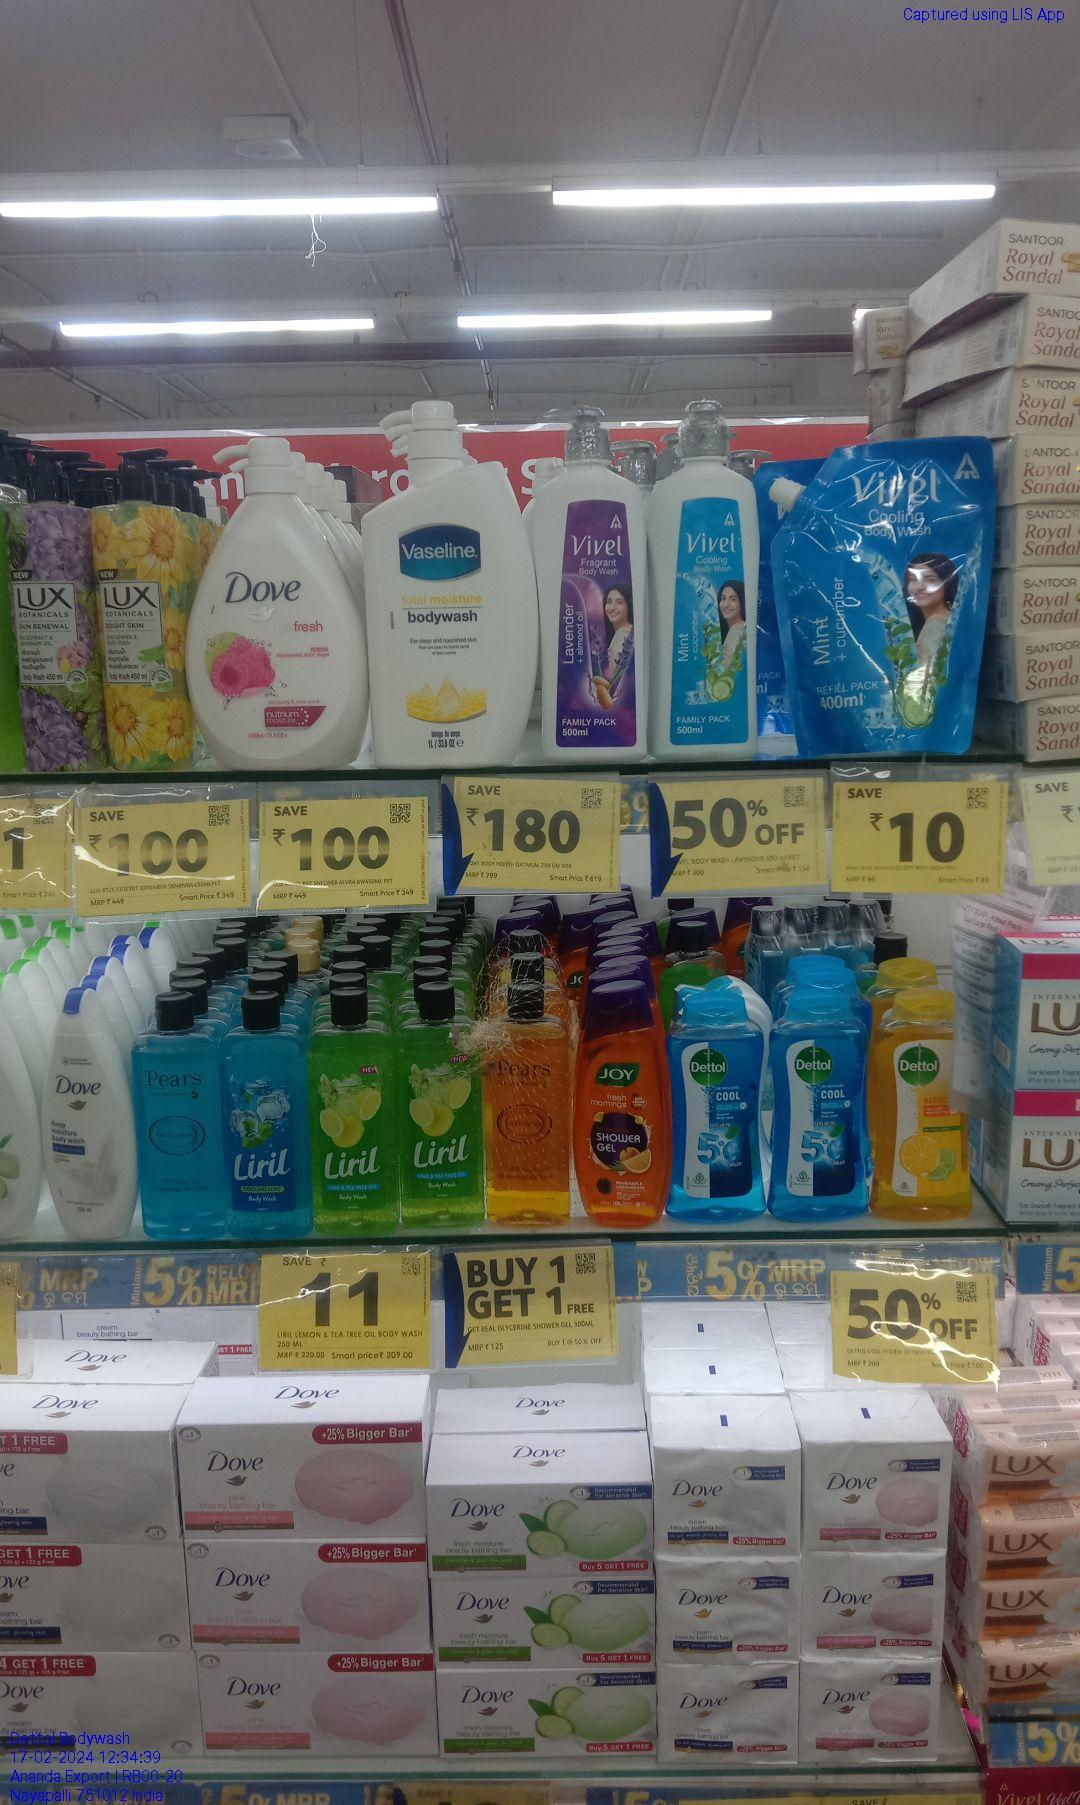Dettol_Bodywash_Cool: (671, 989, 768, 1221), (774, 989, 869, 1217)
Dettol_Bodywash_Refresh: (872, 991, 973, 1220)
Dove_Deep_Moisture_Body_Wash_250ML: (42, 992, 135, 1239)
Joy_Shower_Gel_Mandarin_and_Lemongrass_250ML: (575, 981, 665, 1226)
Liril_Cooling_Mint_Body_Wash_250ML: (220, 986, 311, 1239)
Liril_Lime_and_Tea_Tree_Oil_Body_Wash_250ML: (311, 989, 399, 1233), (401, 985, 483, 1226)
